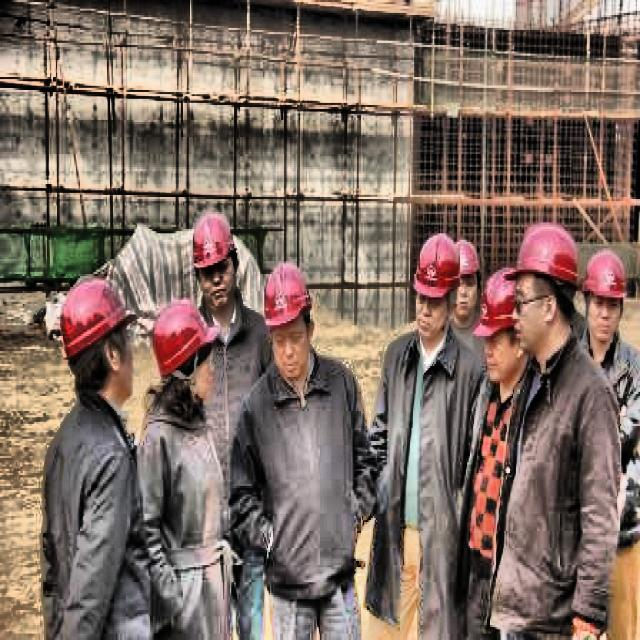helmet: (47, 272, 152, 404), (507, 212, 582, 351), (147, 295, 229, 409), (254, 255, 317, 379), (407, 229, 464, 345), (183, 210, 241, 317), (476, 270, 526, 379), (579, 248, 630, 351), (448, 238, 483, 330)
